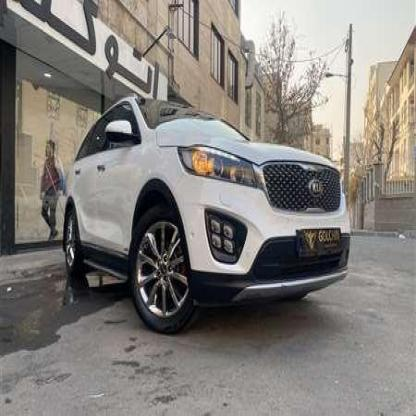Car: (65, 92, 356, 342)
